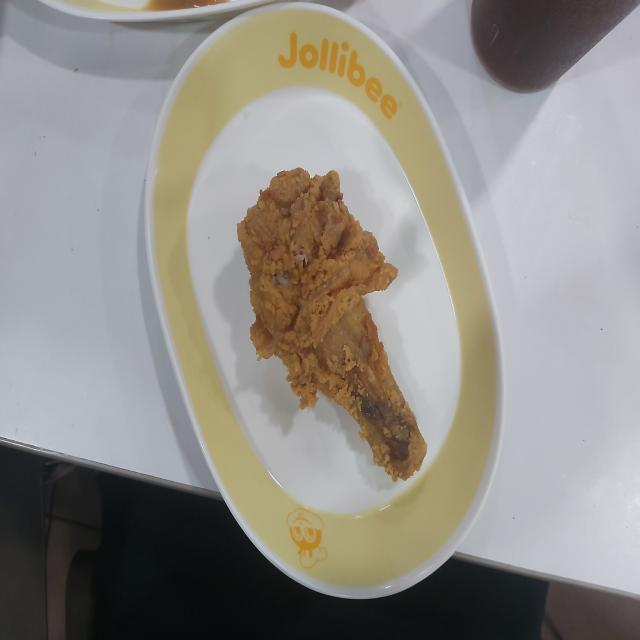Chicken -Fried Chicken-: (222, 162, 449, 504)
